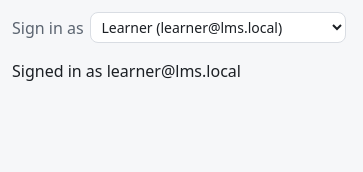
DevUserSwitcher › switches the stored token and refetches queries as the new user
Check: the text "Signed in as learner@lms.local" is shown, box x1=12 y1=60 x2=241 y2=82
Select "Admin (admin@lms.local)" in the dropdown labelled "Sign in as". click: (218, 28)
box: x1=90 y1=12 x2=346 y2=43
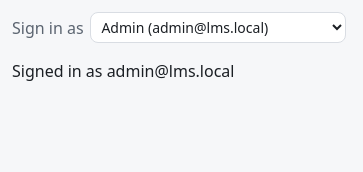
Check: the text "Signed in as admin@lms.local" is shown, box x1=12 y1=60 x2=234 y2=82
